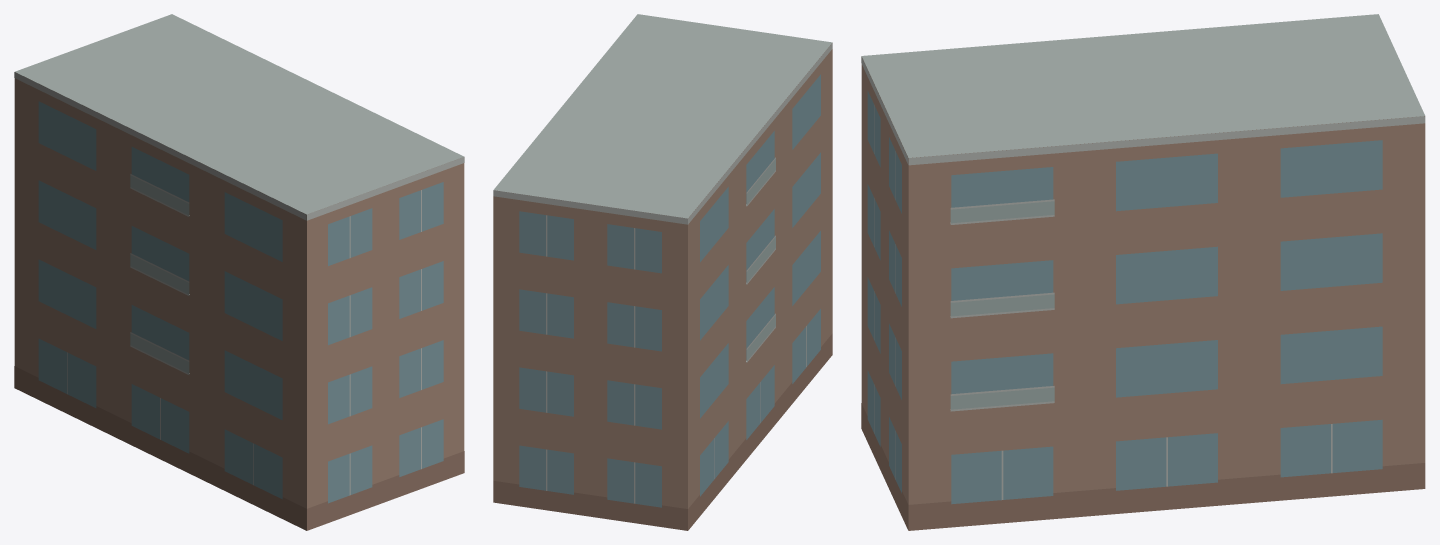
Rendered from survey-upis-32892277.glb.
3 views of the same model, side by side, from view 1: azimuth 30°, elevation 25°; view 2: azimuth 150°, elevation 25°; view 3: azimuth 270°, elevation 25° (orthographic). The views are drawn at different scales.
Parts seen in each view (by area): view 1: survey-upis-32892277.tmp; view 2: survey-upis-32892277.tmp; view 3: survey-upis-32892277.tmp.
Boxes of the visible parts, <box> form: survey-upis-32892277.tmp: <box>14,14,464,530</box>; survey-upis-32892277.tmp: <box>493,14,832,530</box>; survey-upis-32892277.tmp: <box>861,14,1425,530</box>.
Size of the model in its own units: 10.28 by 12.4 by 17.01.
